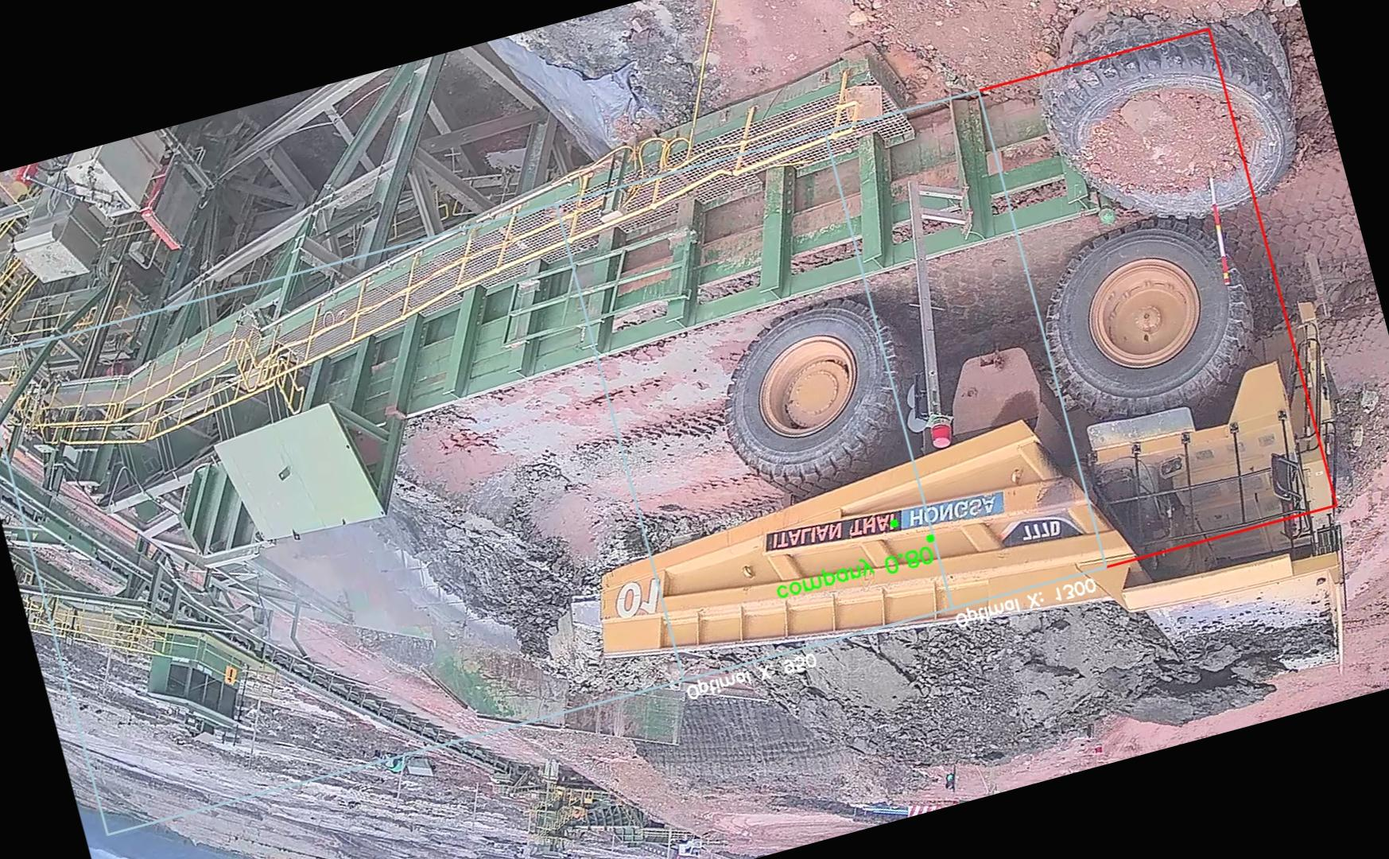company: (746, 462, 1023, 587)
full_load: (779, 566, 1168, 811)
mining_truck: (524, 178, 1389, 859)
tail_number: (602, 566, 670, 628)
truck_size: (993, 500, 1089, 558)
